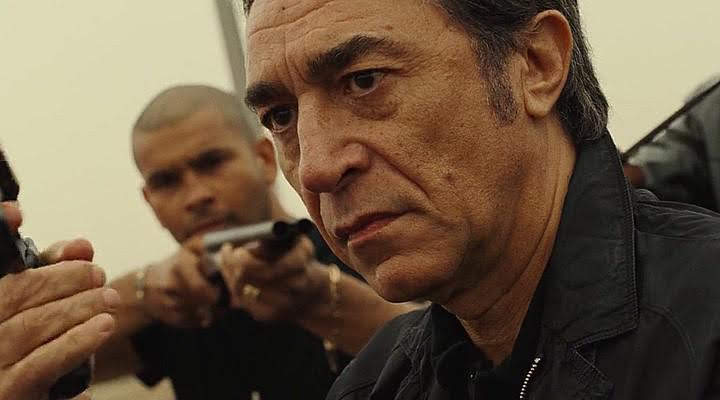gun: (193, 223, 320, 314)
